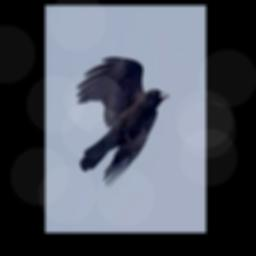Crow: (76, 55, 170, 186)
